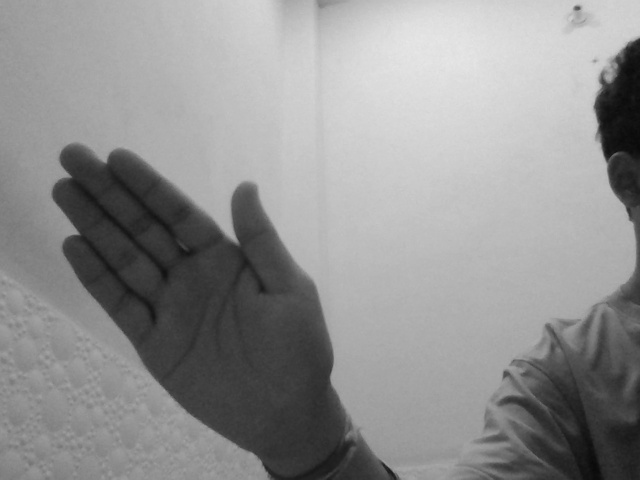Hello: (39, 132, 338, 455)
